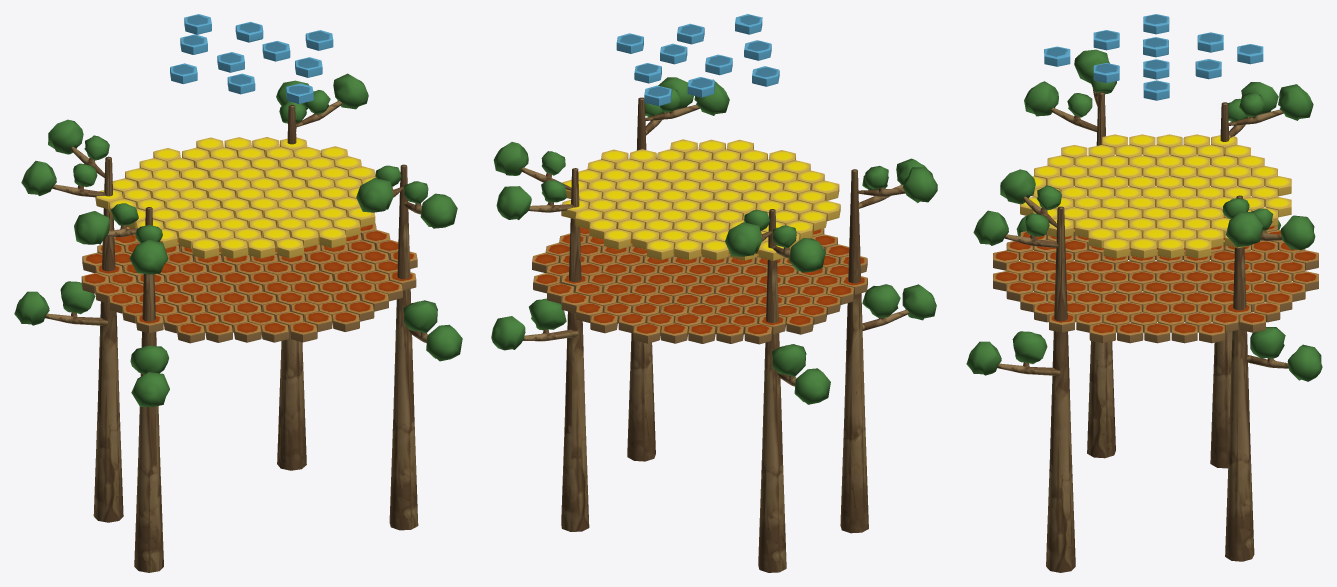
File: hexagon.fbx
3 views of the same model, side by side, from view 1: azimuth 30°, elevation 25°; view 2: azimuth 150°, elevation 25°; view 3: azimuth 270°, elevation 25° (orthographic).
Parts seen in each view (by area): view 1: pSphere6, orange, yellow, blue2; view 2: pSphere6, orange, yellow, blue2; view 3: pSphere6, orange, yellow, blue2.
Part boxes in pixels (x1,y1,x2,y2): pSphere6: [14, 73, 462, 572]; orange: [81, 223, 417, 343]; yellow: [95, 137, 375, 258]; blue2: [170, 14, 333, 103]; pSphere6: [491, 77, 937, 572]; orange: [532, 227, 867, 344]; yellow: [561, 139, 840, 260]; blue2: [616, 14, 779, 106]; pSphere6: [966, 49, 1322, 572]; orange: [993, 207, 1318, 343]; yellow: [1020, 134, 1291, 258]; blue2: [1044, 14, 1263, 100].
Size of the model in its own units: 99.89 by 121 by 84.16.
